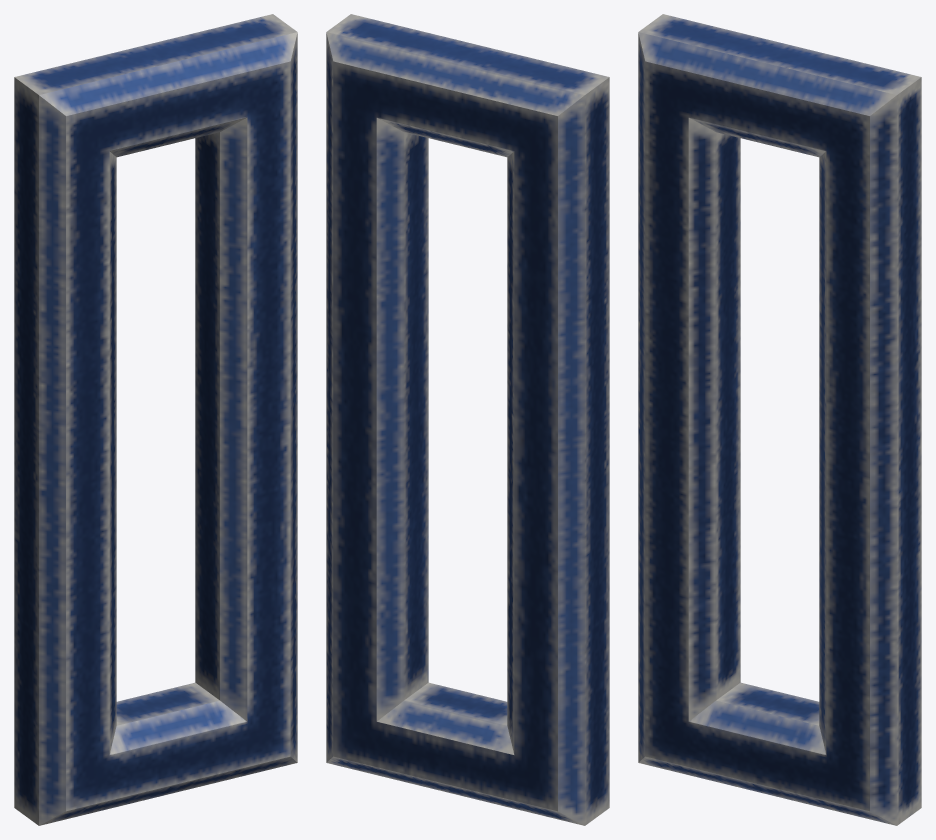
File: Anchorward_ChainLink.fbx
3 views of the same model, side by side, from view 1: azimuth 30°, elevation 25°; view 2: azimuth 150°, elevation 25°; view 3: azimuth 330°, elevation 25° (orthographic).
Visible parts, largest first — view 1: Anchorward_ChainLink; view 2: Anchorward_ChainLink; view 3: Anchorward_ChainLink.
Part boxes in pixels (x1=…): Anchorward_ChainLink: x1=14, y1=14, x2=297, y2=825; Anchorward_ChainLink: x1=326, y1=14, x2=609, y2=825; Anchorward_ChainLink: x1=638, y1=14, x2=921, y2=825.
Size of the model in its own units: 0.1 by 0.27 by 0.03.
